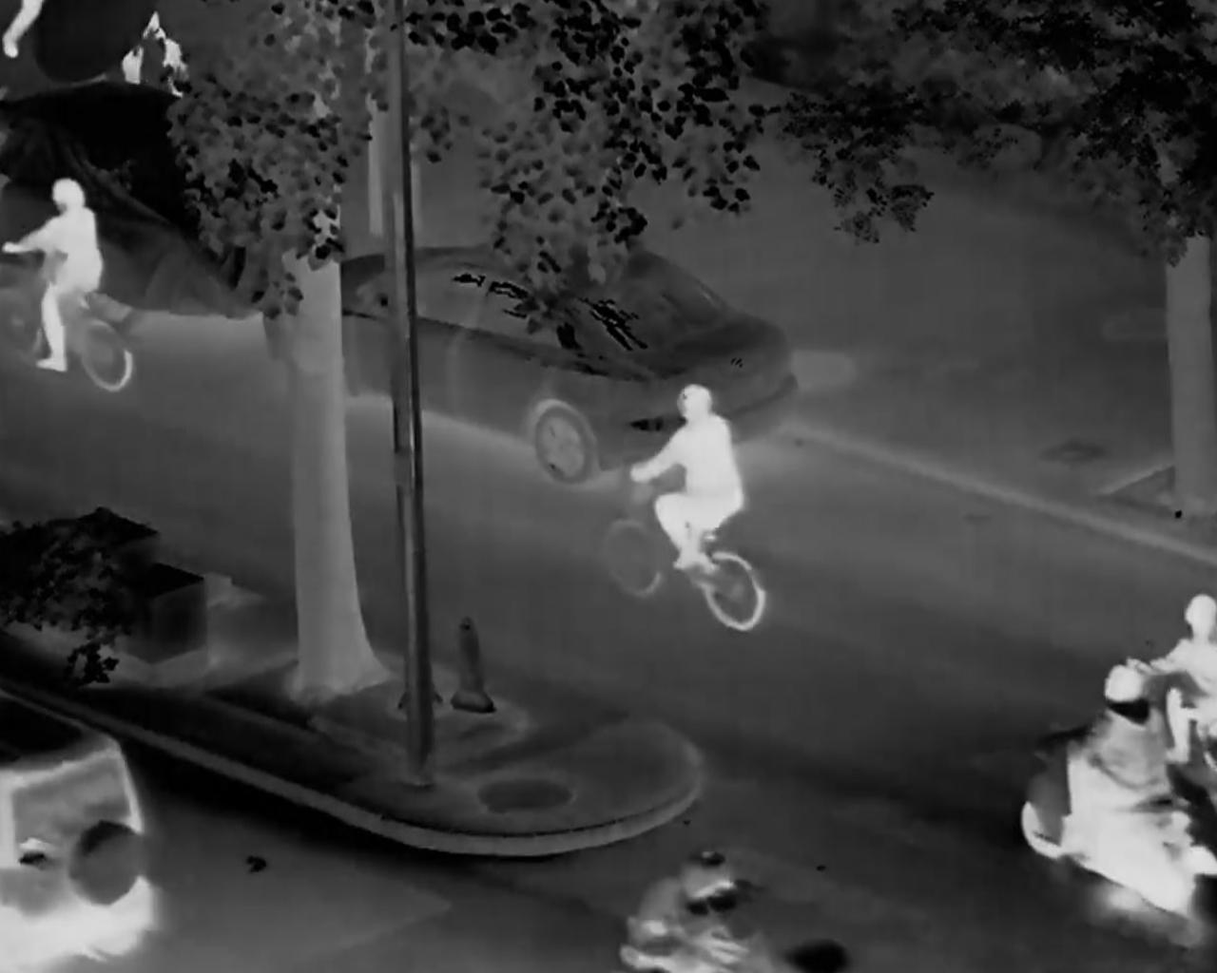person: (1054, 669, 1185, 875), (630, 387, 750, 566), (641, 849, 763, 973), (1139, 593, 1217, 760)
